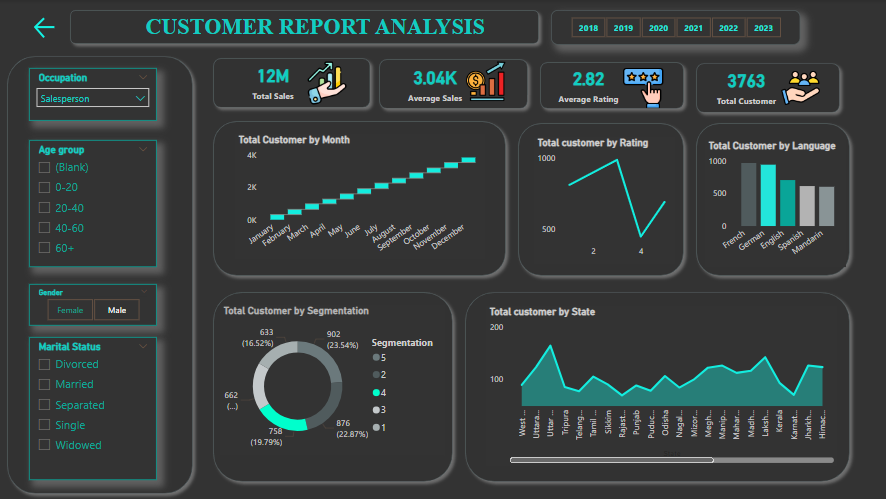

The page's visual inventory and layout, read from the dashboard file:
{"tool":"powerbi","page":{"name":"Customer Report","canvas":[1280,720],"ordinal":2},"visuals":[{"type":"shape","box":[993.6,168.5,239,237.6],"z":0},{"type":"shape","box":[298.1,411.8,362.9,290.9],"z":1000},{"type":"shape","box":[661,411.8,571.7,290.9],"z":2000},{"type":"shape","box":[737.3,168.5,256.3,237.6],"z":3000},{"type":"shape","box":[298.1,165.6,439.2,240.5],"z":4000},{"type":"shape","box":[993.3,81.8,224.5,89.1],"z":5000},{"type":"shape","box":[769,80.6,224.6,85],"z":6000},{"type":"shape","box":[536.9,76.9,231.8,89.1],"z":7000},{"type":"shape","box":[297.7,74.4,244,89.1],"z":8000},{"type":"card","fields":{"Values":["customer_dataset.total_sales"]},"box":[347,70.6,92.2,92.2],"z":9000},{"type":"card","fields":{"Values":["customer_dataset.total_customer"]},"box":[1015.2,77.8,119.5,92.2],"z":10000},{"type":"card","fields":{"Values":["customer_dataset.avg_sales"]},"box":[578.4,63.5,95.2,111],"z":11000},{"type":"card","fields":{"Values":["Avg(customer_dataset.Rating)"]},"box":[784.6,76.9,125.7,89.1],"z":12000},{"type":"waterfallChart","title":"Total Customer by Month","fields":{"Category":["customer_dataset.Date.Variation.Date Hierarchy.Month"],"Y":["customer_dataset.total_customer"]},"box":[338.4,193,361.4,181.4],"z":13000},{"type":"donutChart","title":"Total Customer by Segmentation","fields":{"Category":["customer_dataset.Segmentation Group"],"Y":["customer_dataset.total_customer"]},"box":[316.8,439.2,322.6,217.4],"z":14000},{"type":"clusteredColumnChart","title":"Total Customer by Language","fields":{"Category":["customer_dataset.Language"],"Y":["customer_dataset.total_customer"]},"box":[1015.2,201.6,203,182.9],"z":15000},{"type":"areaChart","title":"Total customer by State","fields":{"Category":["customer_dataset.State"],"Y":["customer_dataset.total_customer"]},"box":[700.2,440.8,506,231.1],"z":16000},{"type":"slicer","fields":{"Values":["customer_dataset.Date.Variation.Date Hierarchy.Year"]},"box":[793.1,14.6,358.7,50],"z":17000},{"type":"shape","box":[1.4,72,285.1,648],"z":18000},{"type":"image","box":[421.9,83.5,97.9,72],"z":19000},{"type":"image","box":[661.4,84.2,76.9,67.1],"z":20000},{"type":"image","box":[881.3,90.7,89.3,72],"z":21000},{"type":"image","box":[1108.8,93.6,87.8,66.2],"z":22000},{"type":"shape","box":[92.2,5.8,692.6,66.2],"z":23000},{"type":"textbox","box":[109.4,14.4,697,57.6],"z":24000},{"type":"slicer","fields":{"Values":["customer_dataset.Occupation"]},"box":[41.8,97.9,184.3,76.3],"z":25000},{"type":"slicer","fields":{"Values":["customer_dataset.Gender"]},"box":[41.8,409,184.3,60.5],"z":26000},{"type":"slicer","fields":{"Values":["customer_dataset.Marital Status"]},"box":[41.8,485.3,184.3,205.9],"z":27000},{"type":"slicer","fields":{"Values":["customer_dataset.age_group"]},"box":[41.8,201.6,184.3,182.9],"z":28000},{"type":"lineChart","title":"Total customer by Rating","fields":{"Category":["customer_dataset.Rating"],"Y":["customer_dataset.total_customer"]},"box":[769,197.3,203,182.9],"z":29000},{"type":"actionButton","box":[43.9,19.8,100.6,39.7],"z":30000}]}

Visuals, with their boxes in screenshot pixels (x1, y1, x2, y2), scaled from the page's 1280x720 canvas onto the 886x499 screenshot:
shape: Rect(688, 117, 853, 281)
shape: Rect(206, 285, 458, 487)
shape: Rect(458, 285, 853, 487)
shape: Rect(510, 117, 688, 281)
shape: Rect(206, 115, 510, 281)
shape: Rect(688, 57, 843, 118)
shape: Rect(532, 56, 688, 115)
shape: Rect(372, 53, 532, 115)
shape: Rect(206, 52, 375, 113)
card - customer_dataset.total_sales: Rect(240, 49, 304, 113)
card - customer_dataset.total_customer: Rect(703, 54, 785, 118)
card - customer_dataset.avg_sales: Rect(400, 44, 466, 121)
card - Avg(customer_dataset.Rating): Rect(543, 53, 630, 115)
"Total Customer by Month" waterfallChart: Rect(234, 134, 484, 259)
"Total Customer by Segmentation" donutChart: Rect(219, 304, 443, 455)
"Total Customer by Language" clusteredColumnChart: Rect(703, 140, 843, 266)
"Total customer by State" areaChart: Rect(485, 305, 835, 466)
slicer - customer_dataset.Date.Variation.Date Hierarchy.Year: Rect(549, 10, 797, 45)
shape: Rect(1, 50, 198, 498)
image: Rect(292, 58, 360, 108)
image: Rect(458, 58, 511, 105)
image: Rect(610, 63, 672, 113)
image: Rect(767, 65, 828, 111)
shape: Rect(64, 4, 543, 50)
textbox: Rect(76, 10, 558, 50)
slicer - customer_dataset.Occupation: Rect(29, 68, 157, 121)
slicer - customer_dataset.Gender: Rect(29, 283, 157, 325)
slicer - customer_dataset.Marital Status: Rect(29, 336, 157, 479)
slicer - customer_dataset.age_group: Rect(29, 140, 157, 266)
"Total customer by Rating" lineChart: Rect(532, 137, 673, 263)
actionButton: Rect(30, 14, 100, 41)
